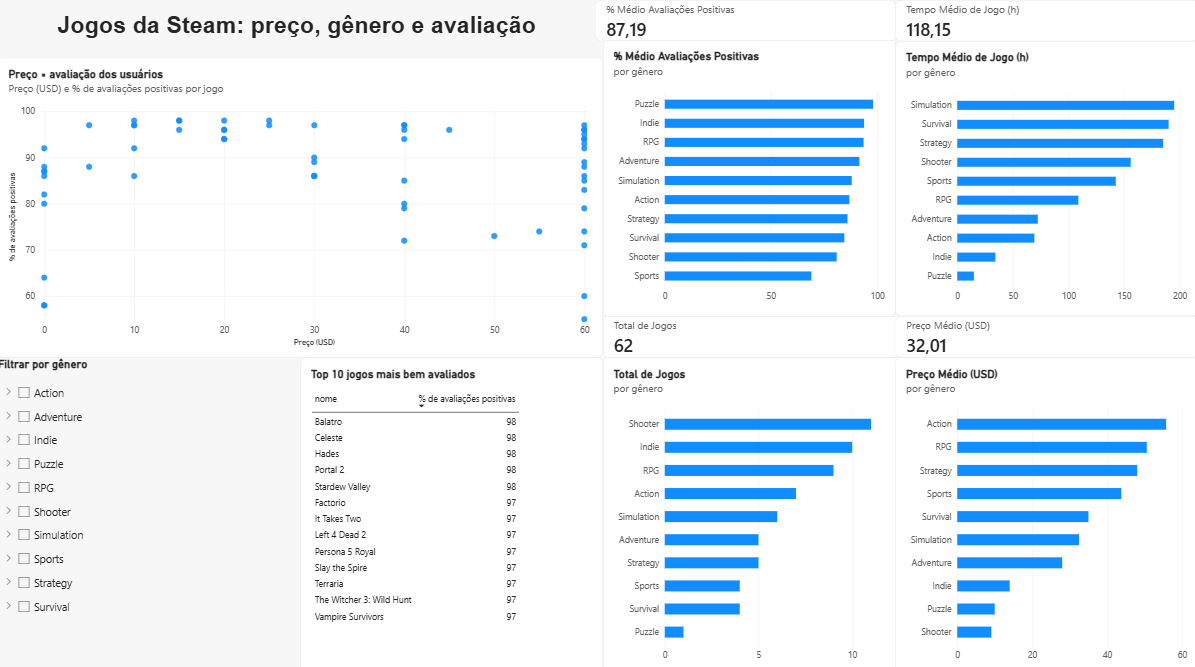

What the dashboard file says about the page in this screenshot:
{"tool":"powerbi","page":{"name":"Página 1","canvas":[1920,1080],"ordinal":0},"visuals":[{"type":"cardVisual","fields":{"Data":["steam_games.Total de Jogos"]},"box":[968,506,474,66],"z":0},{"type":"cardVisual","fields":{"Data":["steam_games.Preço Médio (USD)"]},"box":[1436,506,484,66],"z":1000},{"type":"cardVisual","fields":{"Data":["steam_games.% Médio Avaliações Positivas"]},"box":[956,0,480,66],"z":2000},{"type":"cardVisual","fields":{"Data":["steam_games.Tempo Médio de Jogo (h)"]},"box":[1436,0,484,66],"z":3000},{"type":"clusteredBarChart","fields":{"Category":["steam_games.genre"],"Y":["steam_games.Total de Jogos"]},"box":[968,572,484,508],"z":4000},{"type":"clusteredBarChart","fields":{"Category":["steam_games.genre"],"Y":["steam_games.Preço Médio (USD)"]},"box":[1436,572,484,508],"z":5000},{"type":"clusteredBarChart","fields":{"Category":["steam_games.genre"],"Y":["steam_games.% Médio Avaliações Positivas"]},"box":[968,64,468,442],"z":6000},{"type":"clusteredBarChart","fields":{"Category":["steam_games.genre"],"Y":["steam_games.Tempo Médio de Jogo (h)"]},"box":[1436,66,484,440],"z":7000},{"type":"scatterChart","title":"Preço × avaliação dos usuários","fields":{"Category":["steam_games.name"],"X":["Sum(steam_games.price_usd)"],"Y":["Sum(steam_games.positive_review_pct)"]},"box":[0,92,968,480],"z":8000},{"type":"slicer","title":"  Filtrar por gênero","fields":{"Values":["steam_games.genre","steam_games.Tipo de Preço","steam_games.release_year"]},"box":[0,572,484,508],"z":9000},{"type":"tableEx","title":"Top 10 jogos mais bem avaliados","fields":{"Values":["steam_games.name","Sum(steam_games.positive_review_pct)"]},"box":[484,572,484,508],"z":10000},{"type":"textbox","box":[0,18,956,74],"z":11000}]}

Visuals, with their boxes in screenshot pixels (x1, y1, x2, y2), scaled from the page's 1920x1080 canvas onto the 1195x667 screenshot:
cardVisual - steam_games.Total de Jogos: [left=602, top=313, right=897, bottom=353]
cardVisual - steam_games.Preço Médio (USD): [left=894, top=313, right=1194, bottom=353]
cardVisual - steam_games.% Médio Avaliações Positivas: [left=595, top=0, right=894, bottom=41]
cardVisual - steam_games.Tempo Médio de Jogo (h): [left=894, top=0, right=1194, bottom=41]
clusteredBarChart - steam_games.genre x steam_games.Total de Jogos: [left=602, top=353, right=904, bottom=666]
clusteredBarChart - steam_games.genre x steam_games.Preço Médio (USD): [left=894, top=353, right=1194, bottom=666]
clusteredBarChart - steam_games.genre x steam_games.% Médio Avaliações Positivas: [left=602, top=40, right=894, bottom=313]
clusteredBarChart - steam_games.genre x steam_games.Tempo Médio de Jogo (h): [left=894, top=41, right=1194, bottom=313]
"Preço × avaliação dos usuários" scatterChart: [left=0, top=57, right=602, bottom=353]
"  Filtrar por gênero" slicer: [left=0, top=353, right=301, bottom=666]
"Top 10 jogos mais bem avaliados" tableEx: [left=301, top=353, right=602, bottom=666]
textbox: [left=0, top=11, right=595, bottom=57]
